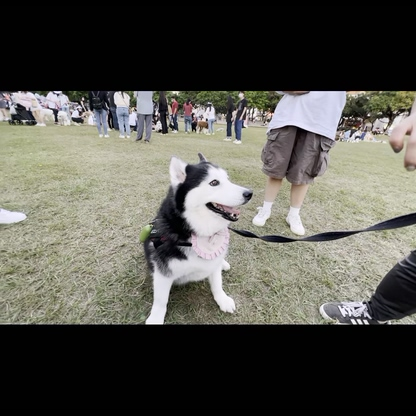husky: (133, 148, 257, 322)
